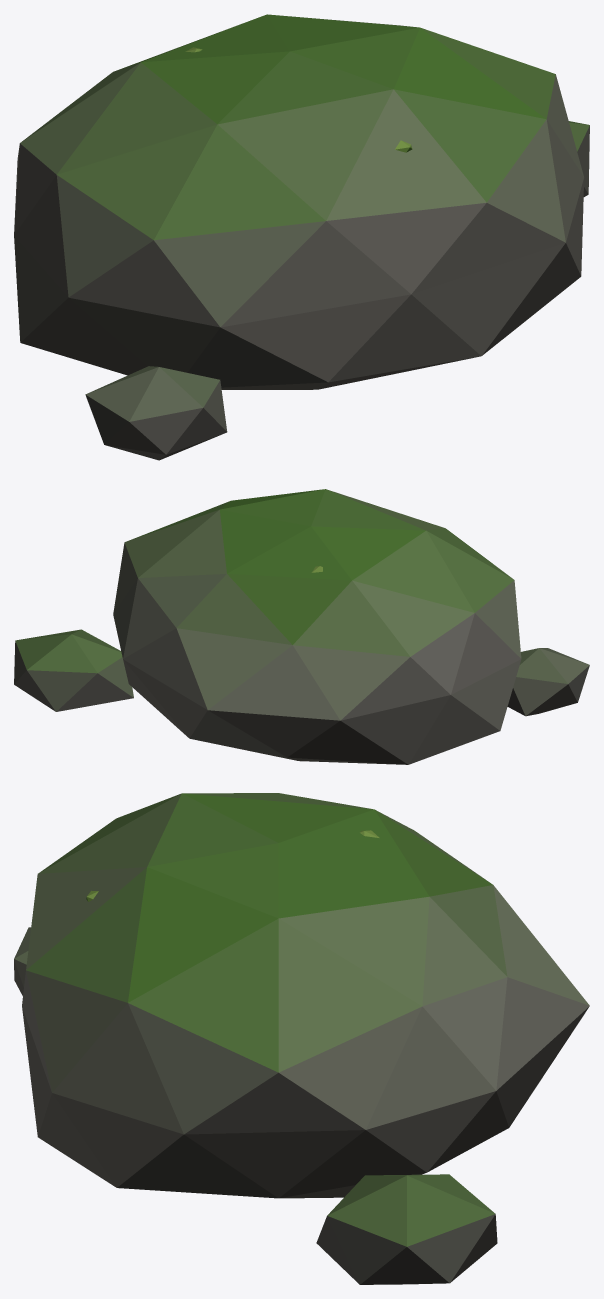
The model's file is Mossy_Rock.glb.
3 renders of one model, top to bottom at view 1: azimuth 30°, elevation 25°; view 2: azimuth 150°, elevation 25°; view 3: azimuth 270°, elevation 25°, orthographic. The views are drawn at different scales.
Parts seen in each view (by area): view 1: Mossy_Rock; view 2: Mossy_Rock; view 3: Mossy_Rock.
Boxes of the visible parts, x1,y1,x2,y2 form: Mossy_Rock: (14, 14, 589, 460); Mossy_Rock: (14, 489, 589, 764); Mossy_Rock: (14, 793, 589, 1284).
Size of the model in its own units: 1.84 by 0.7697 by 1.35.
